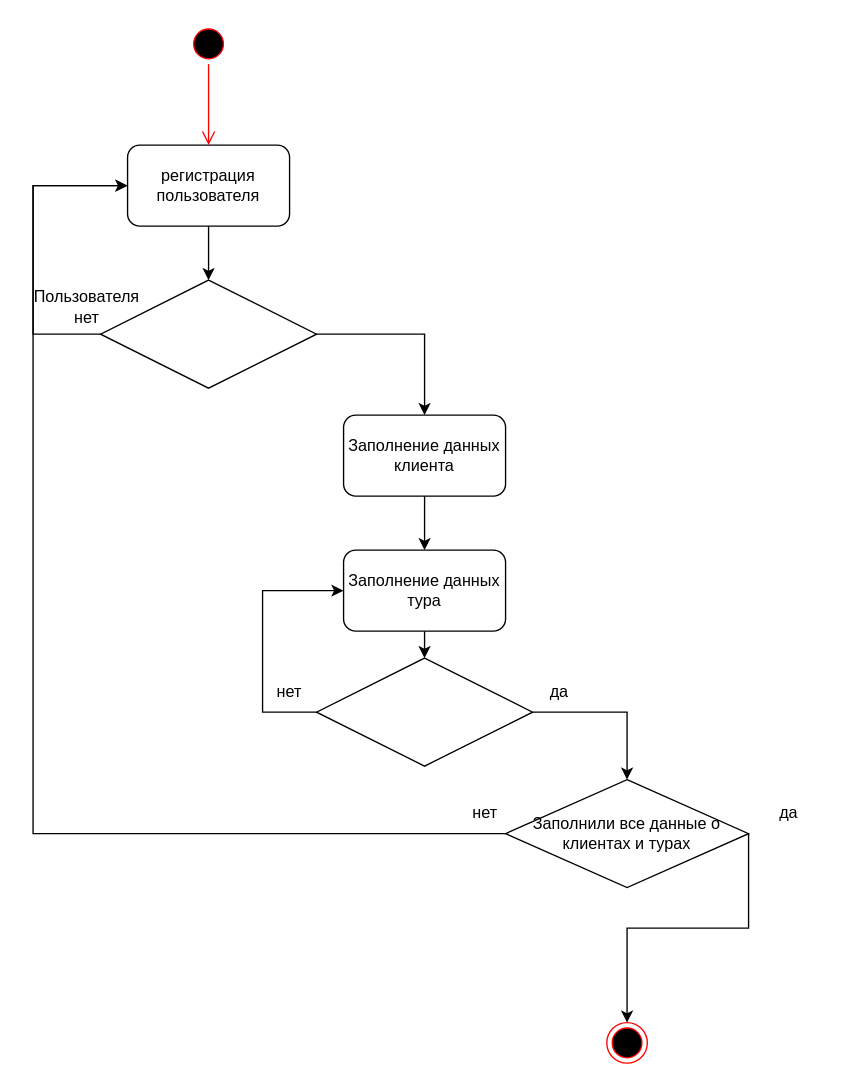
Image size: 853x1087. Some labels were removed from this diagram. Each missing label, with the centre of its shape:
Заполнили всю информацию о турах: the point at 424,711
проверка на наличие пользователя: the point at 208,333
